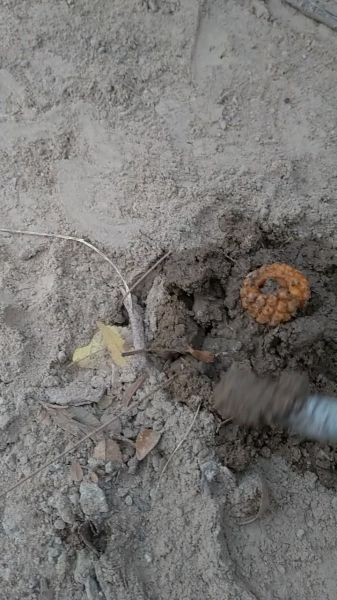eggs: (233, 260, 312, 323)
